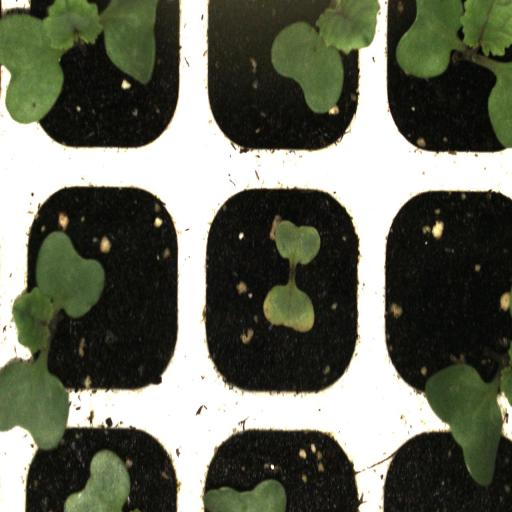seedling: (12, 173, 187, 411), (189, 0, 374, 172), (12, 0, 188, 172), (374, 0, 512, 172)
weak: (188, 172, 373, 411)
